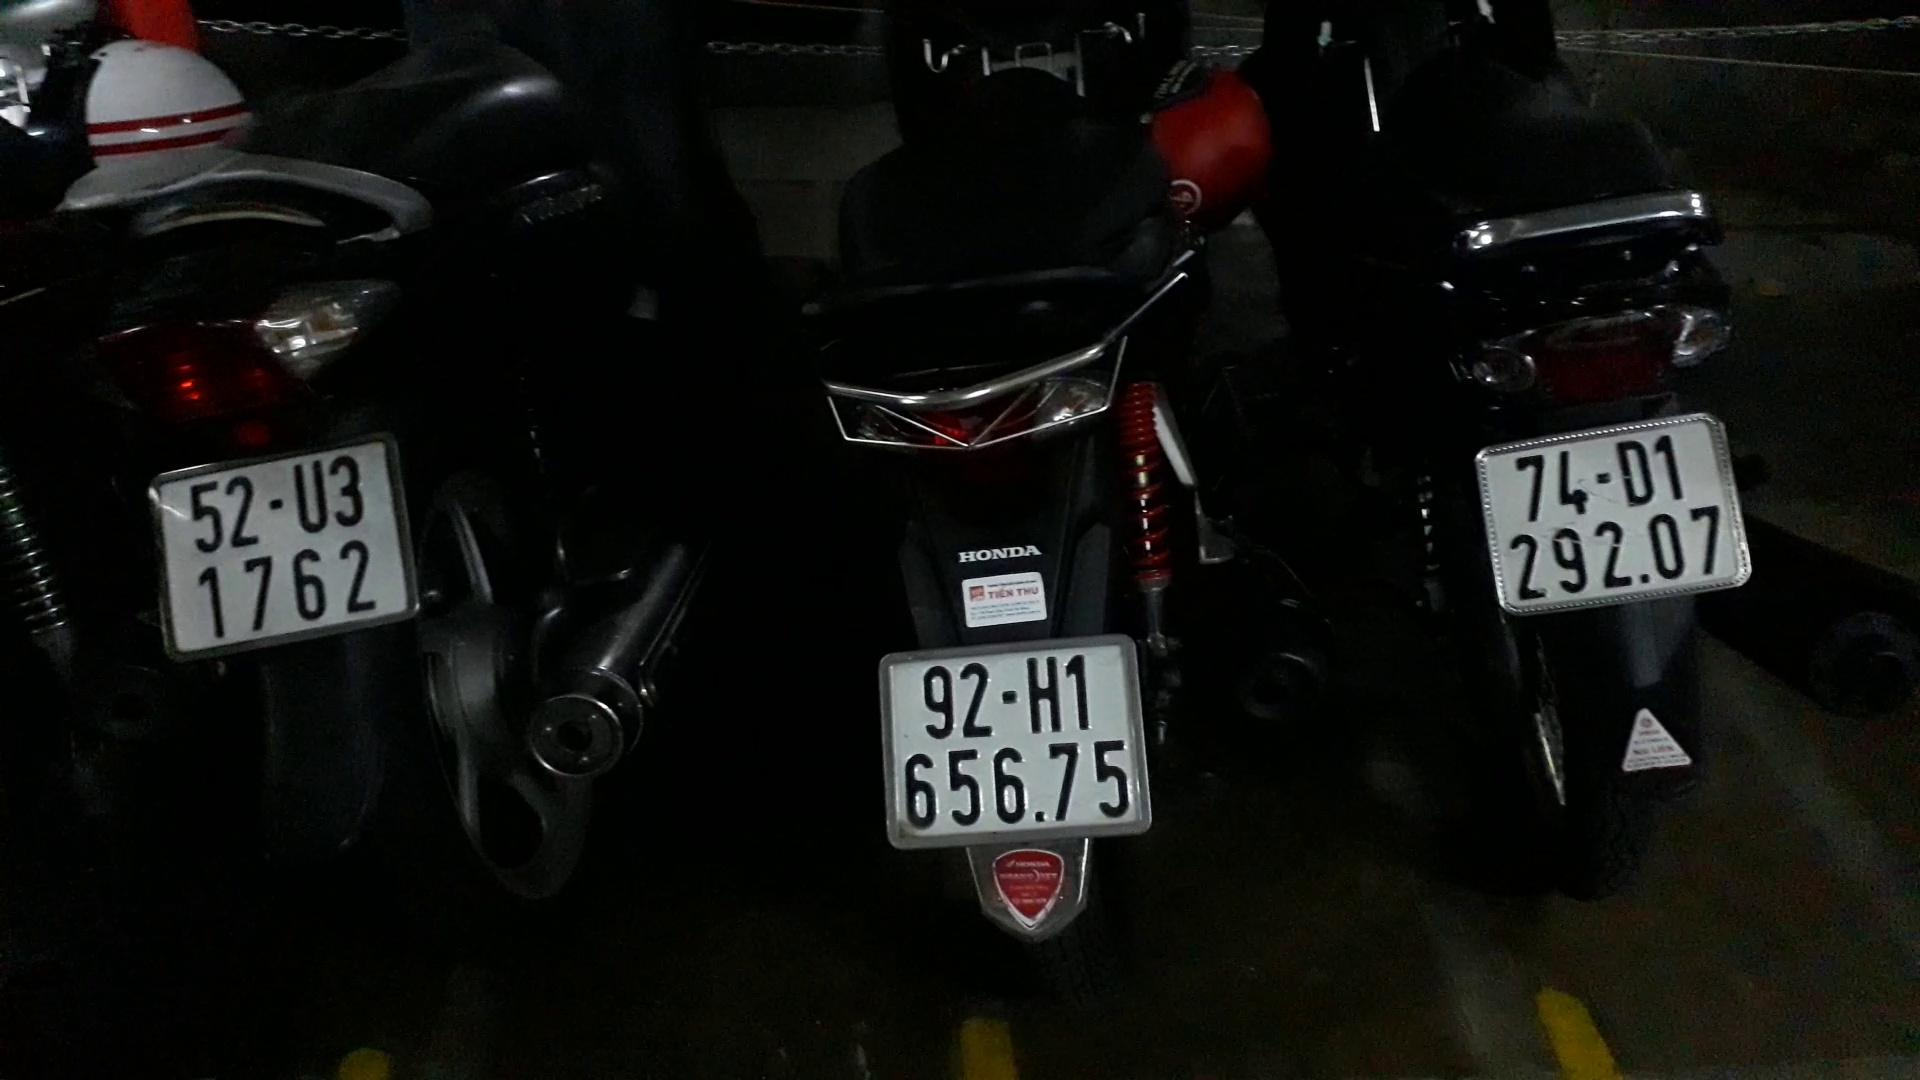numplate: (1453, 407, 1877, 657), (850, 587, 1207, 867), (130, 417, 457, 677)
